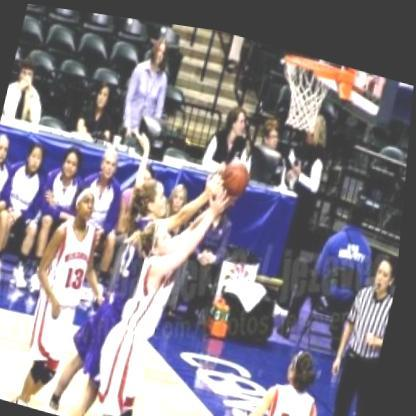basketball: (216, 144, 259, 195)
rim: (267, 40, 348, 130)
